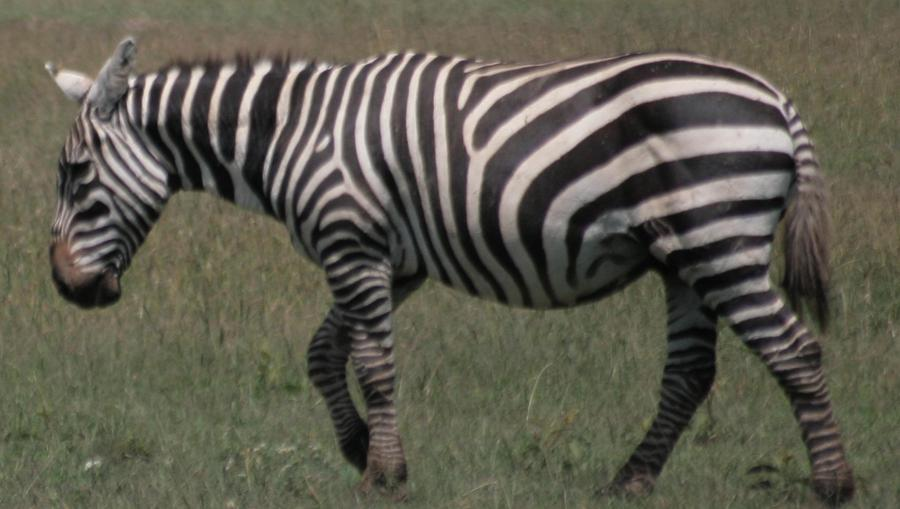zebra_plains: (265, 9, 813, 337)
